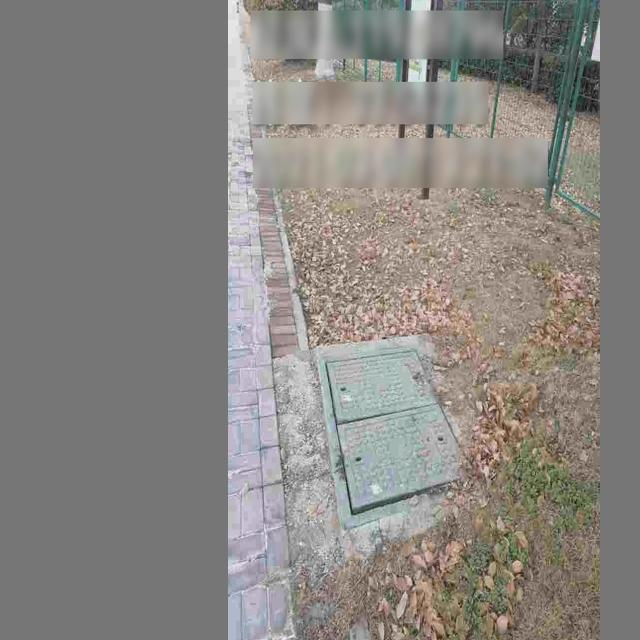good: (316, 345, 479, 516)
